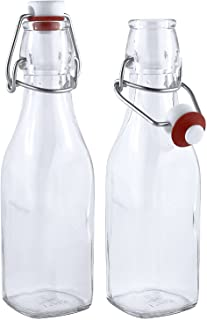glass_bottle: (103, 16, 203, 320), (1, 1, 95, 320)
